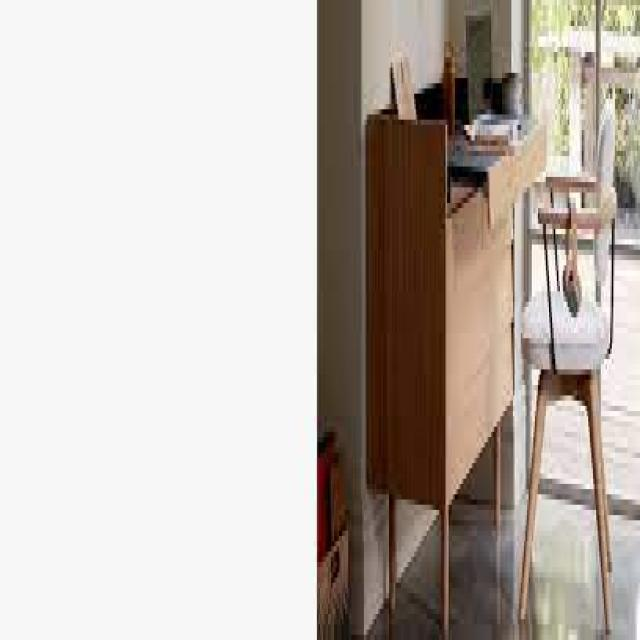chair: (503, 64, 640, 640)
